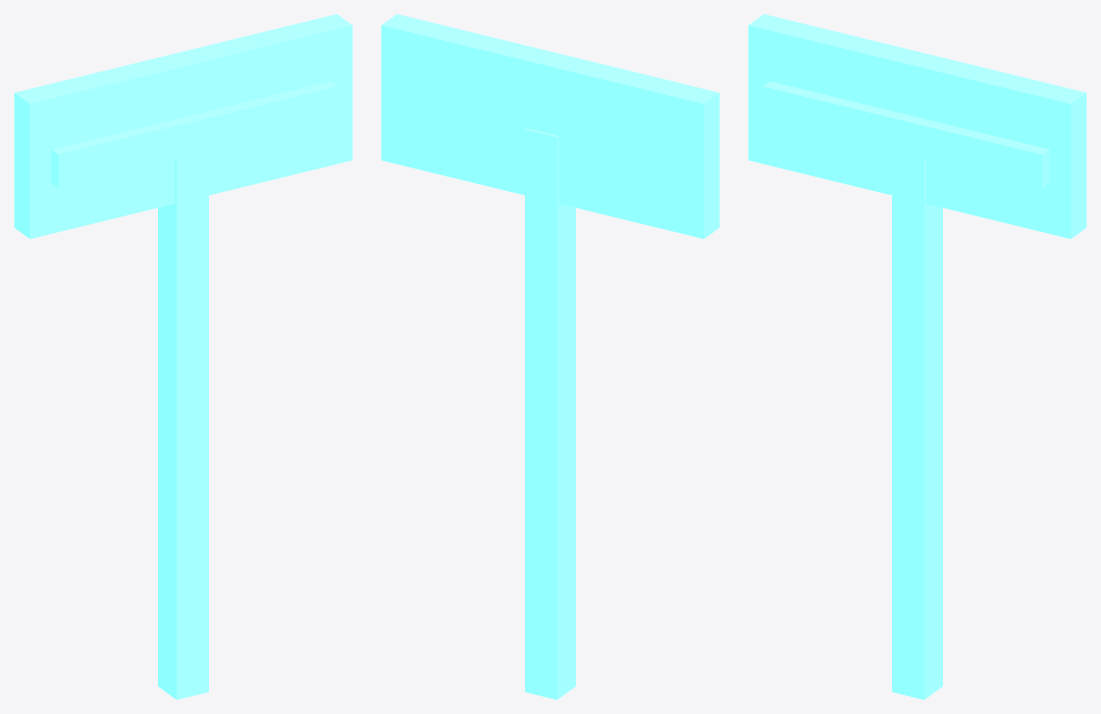
File: neon_sign.glb
3 views of the same model, side by side, from view 1: azimuth 30°, elevation 25°; view 2: azimuth 150°, elevation 25°; view 3: azimuth 330°, elevation 25° (orthographic).
Parts seen in each view (by area): view 1: neon_sign; view 2: neon_sign; view 3: neon_sign.
Part boxes in pixels (x1,y1,x2,y2): neon_sign: (14, 14, 352, 699); neon_sign: (381, 14, 719, 699); neon_sign: (748, 14, 1086, 699).
Bounding box in the file's own units: 3 × 5.6 × 0.39.
